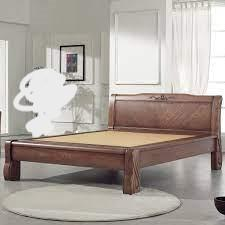Bed-Mattress: (5, 84, 224, 195)
